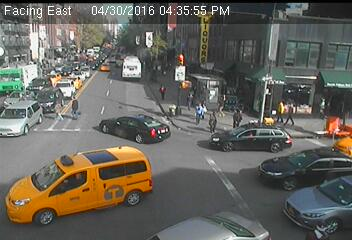neg: (15, 85, 40, 119), (247, 79, 271, 112), (306, 161, 327, 188), (202, 59, 221, 85), (249, 116, 268, 141), (63, 167, 81, 190), (319, 119, 336, 142), (183, 44, 200, 67), (245, 93, 262, 115), (140, 52, 156, 73), (164, 51, 180, 71), (229, 63, 244, 83), (59, 46, 72, 65), (41, 65, 53, 82), (74, 46, 85, 61)
pos: (188, 99, 213, 132), (62, 91, 85, 122), (280, 99, 301, 127), (271, 98, 292, 126), (211, 93, 231, 119), (205, 107, 224, 132), (180, 90, 198, 115), (48, 98, 66, 122), (228, 106, 246, 129), (156, 82, 172, 103)
